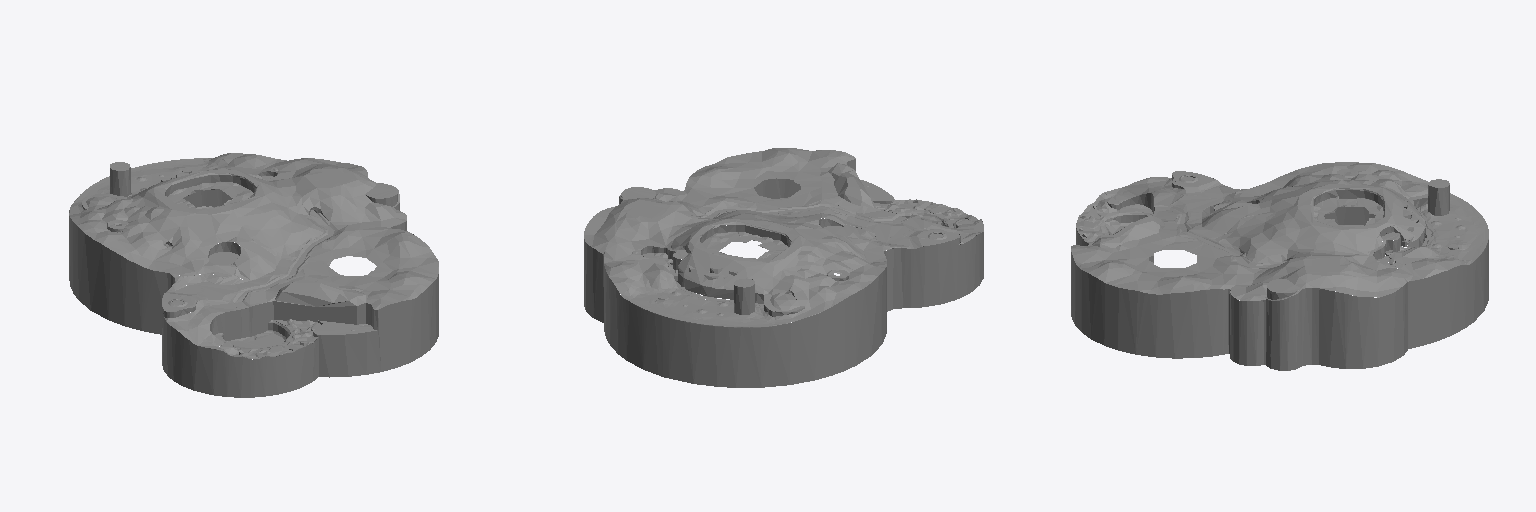
The model's file is PeachWorldGround2.obj.
The picture shows the model from 3 angles: view 1: azimuth 30°, elevation 25°; view 2: azimuth 150°, elevation 25°; view 3: azimuth 270°, elevation 25°; orthographic projection.
Parts seen in each view (by area): view 1: pPlane1044__GroundBaseSoil05; view 2: pPlane1044__GroundBaseSoil05; view 3: pPlane1044__GroundBaseSoil05.
Part boxes in pixels (x1,y1,x2,y2): pPlane1044__GroundBaseSoil05: (69,153,438,397); pPlane1044__GroundBaseSoil05: (584,148,983,387); pPlane1044__GroundBaseSoil05: (1071,162,1488,370).
Bounding box in the file's own units: 30591 × 9112 × 38406.